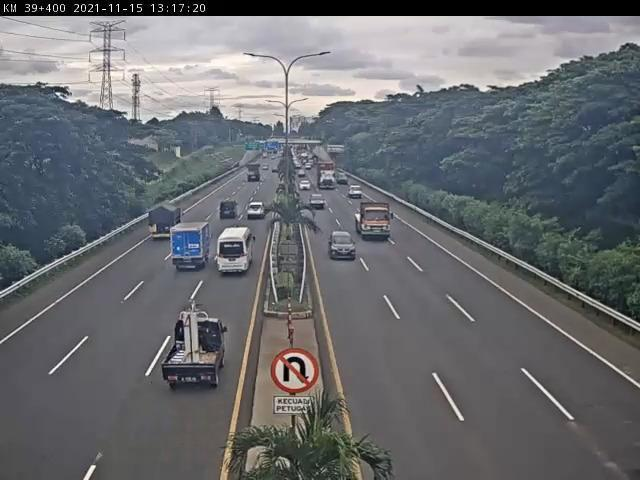bus: (215, 225, 260, 278)
car: (330, 230, 361, 262), (218, 199, 240, 224), (246, 200, 268, 222), (308, 191, 330, 212), (346, 183, 366, 203)
truck: (164, 310, 231, 396), (170, 220, 214, 272), (353, 200, 394, 244), (145, 201, 185, 243)
